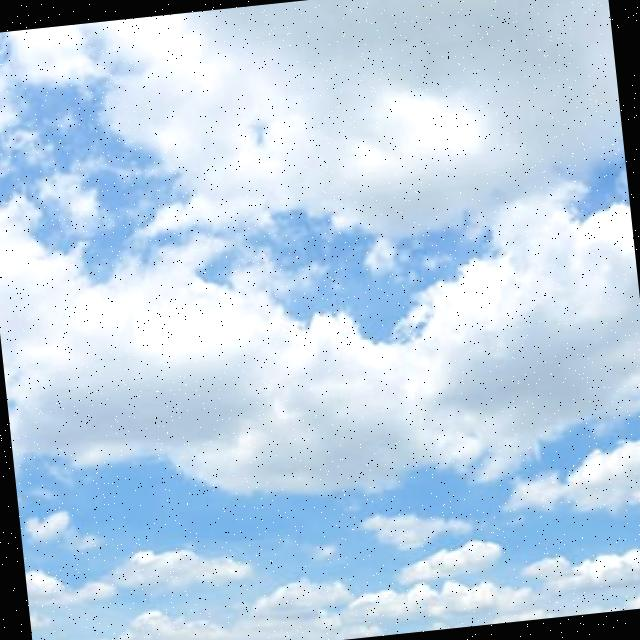Cc: (1, 6, 640, 640)
